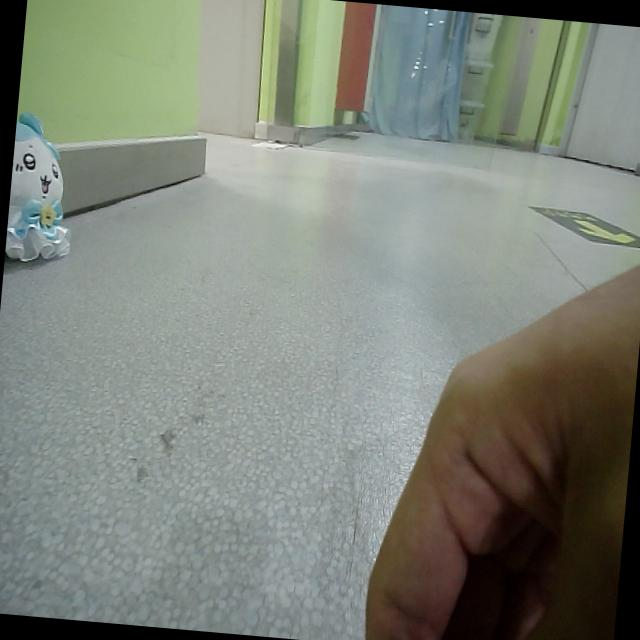xiaoba: (4, 86, 90, 272)
